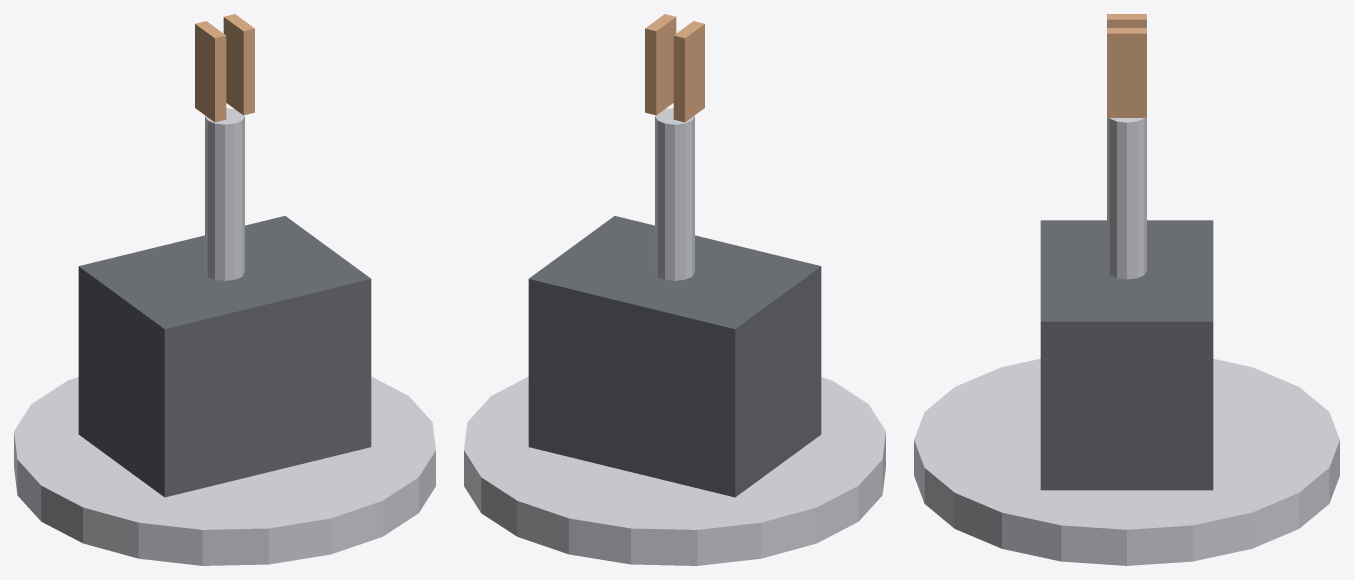
The model's file is clip.glb.
3 views of the same model, side by side, from view 1: azimuth 30°, elevation 25°; view 2: azimuth 150°, elevation 25°; view 3: azimuth 270°, elevation 25° (orthographic).
Parts seen in each view (by area): view 1: block, plate, arm, pad_a, pad_b; view 2: block, plate, arm, pad_a, pad_b; view 3: plate, block, arm, pad_b, pad_a.
Part boxes in pixels (<box>): block: <box>78,216,371,497</box>; plate: <box>14,376,435,565</box>; arm: <box>205,108,244,280</box>; pad_a: <box>195,21,226,122</box>; pad_b: <box>223,14,254,115</box>; block: <box>528,216,821,497</box>; plate: <box>464,376,885,565</box>; arm: <box>655,108,694,280</box>; pad_a: <box>673,21,704,122</box>; pad_b: <box>645,14,676,115</box>; plate: <box>914,358,1339,565</box>; block: <box>1040,220,1213,490</box>; arm: <box>1107,118,1146,279</box>; pad_b: <box>1107,28,1146,117</box>; pad_a: <box>1107,14,1146,27</box>.
Size of the model in its own units: 0.064 by 0.075 by 0.064.
